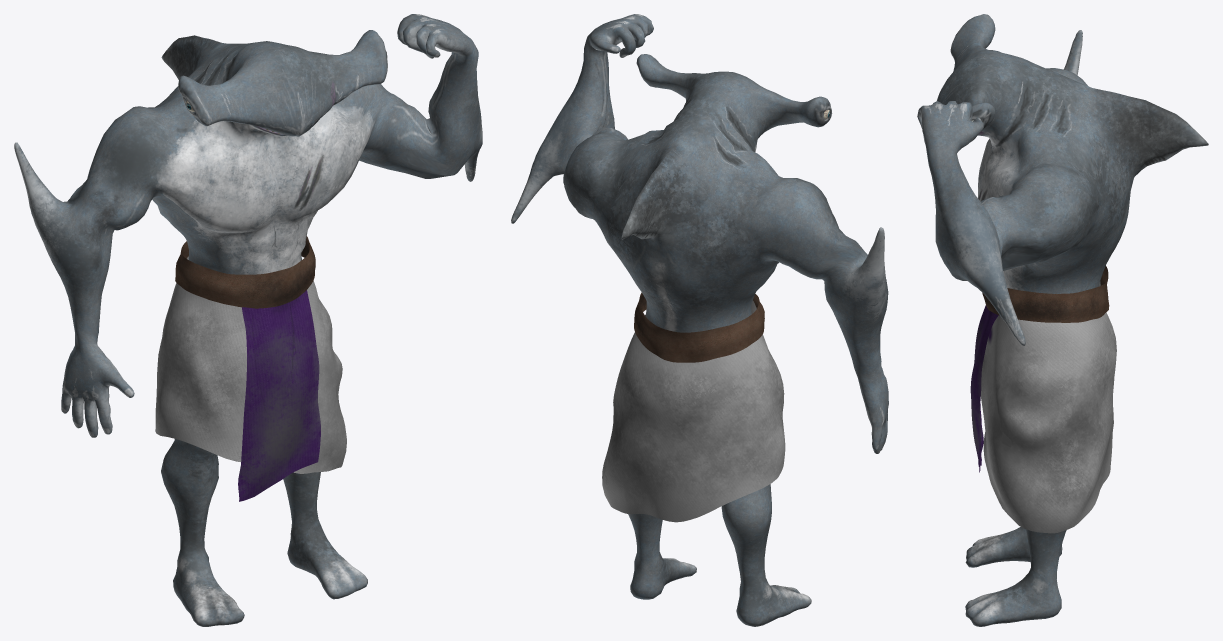
File: final_form_shark.glb
The picture shows the model from 3 angles, left to right: view 1: azimuth 30°, elevation 25°; view 2: azimuth 150°, elevation 25°; view 3: azimuth 270°, elevation 25°; orthographic projection. The views are drawn at different scales.
Parts seen in each view (by area): view 1: Object_3, Object_4; view 2: Object_3, Object_4; view 3: Object_3, Object_4.
Part boxes in pixels (x1=…): Object_3: x1=14, y1=14, x2=482, y2=626; Object_4: x1=155, y1=236, x2=346, y2=501; Object_3: x1=511, y1=14, x2=888, y2=626; Object_4: x1=602, y1=292, x2=785, y2=522; Object_3: x1=917, y1=14, x2=1208, y2=626; Object_4: x1=970, y1=266, x2=1116, y2=533.
Size of the model in its own units: 70.52 by 89.33 by 43.18.
Materials: 3 (3 with a texture image).
